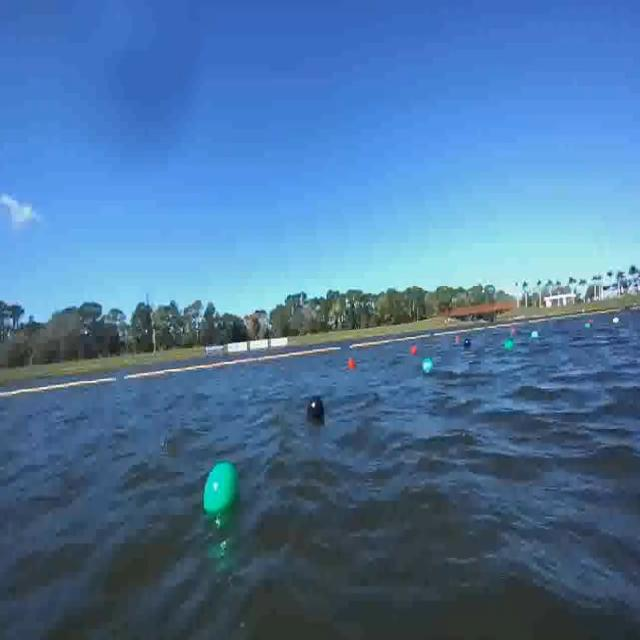black-buoy: (306, 400, 323, 424)
green-buoy: (203, 462, 241, 520), (422, 358, 434, 372), (504, 340, 513, 351)
red-buoy: (412, 346, 418, 355)
